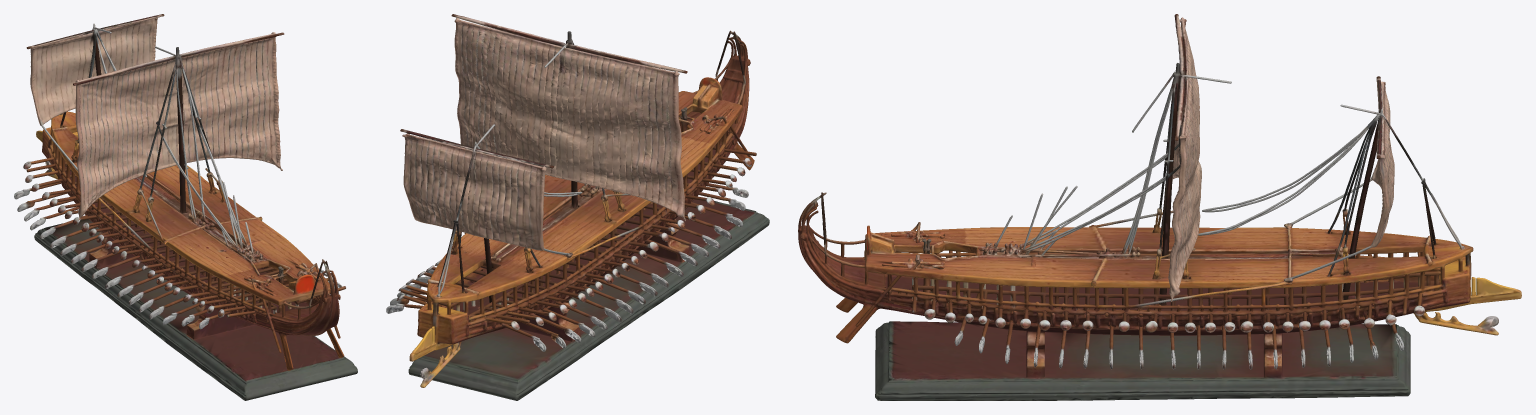
File: Greek_Trireme.min.glb
3 views of the same model, side by side, from view 1: azimuth 30°, elevation 25°; view 2: azimuth 150°, elevation 25°; view 3: azimuth 270°, elevation 25° (orthographic). The views are drawn at different scales.
Visible parts, largest first — view 1: tripo_node_86defb8e-a72e-4a5e-ad02-73992bbd4924; view 2: tripo_node_86defb8e-a72e-4a5e-ad02-73992bbd4924; view 3: tripo_node_86defb8e-a72e-4a5e-ad02-73992bbd4924.
Boxes of the visible parts, x1,y1,x2,y2 form: tripo_node_86defb8e-a72e-4a5e-ad02-73992bbd4924: (14, 14, 357, 400); tripo_node_86defb8e-a72e-4a5e-ad02-73992bbd4924: (386, 14, 769, 400); tripo_node_86defb8e-a72e-4a5e-ad02-73992bbd4924: (798, 14, 1521, 400).
Size of the model in its own units: 0.3983 by 0.4528 by 0.9763.
1 material, 1 textured.
